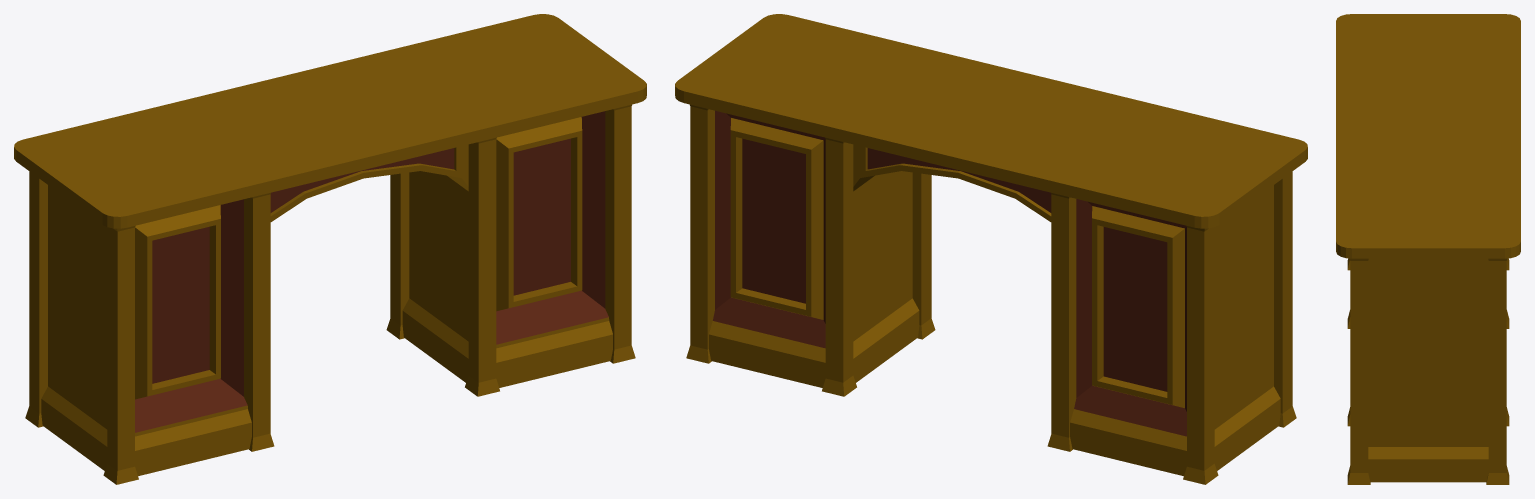
The model's file is LibraryDesk.fbx.
3 views of the same model, side by side, from view 1: azimuth 30°, elevation 25°; view 2: azimuth 150°, elevation 25°; view 3: azimuth 270°, elevation 25° (orthographic). The views are drawn at different scales.
Visible parts, largest first — view 1: LibraryDesk; view 2: LibraryDesk; view 3: LibraryDesk.
Part boxes in pixels (x1,y1,x2,y2): LibraryDesk: [14, 14, 646, 484]; LibraryDesk: [675, 14, 1307, 484]; LibraryDesk: [1336, 14, 1520, 484].
Bounding box in the file's own units: 480 × 231 × 160.
